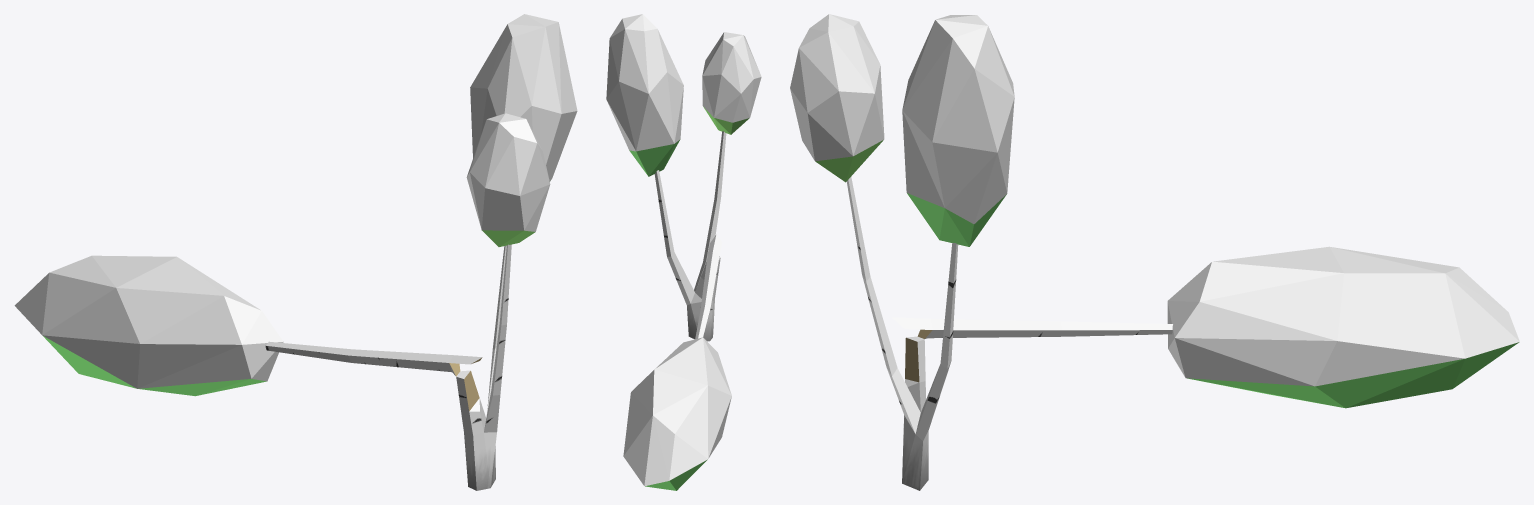
The model's file is Birch_Tree_crk_m_Snow_03.fbx.
3 renders of one model, left to right at view 1: azimuth 30°, elevation 25°; view 2: azimuth 150°, elevation 25°; view 3: azimuth 270°, elevation 25°, orthographic. The views are drawn at different scales.
Parts seen in each view (by area): view 1: Birch_Tree_crk_m_Snow_03; view 2: Birch_Tree_crk_m_Snow_03; view 3: Birch_Tree_crk_m_Snow_03.
Part boxes in pixels (x1,y1,x2,y2): Birch_Tree_crk_m_Snow_03: [14, 14, 577, 490]; Birch_Tree_crk_m_Snow_03: [606, 14, 761, 490]; Birch_Tree_crk_m_Snow_03: [790, 14, 1519, 490].
Size of the model in its own units: 421 by 539 by 702.
